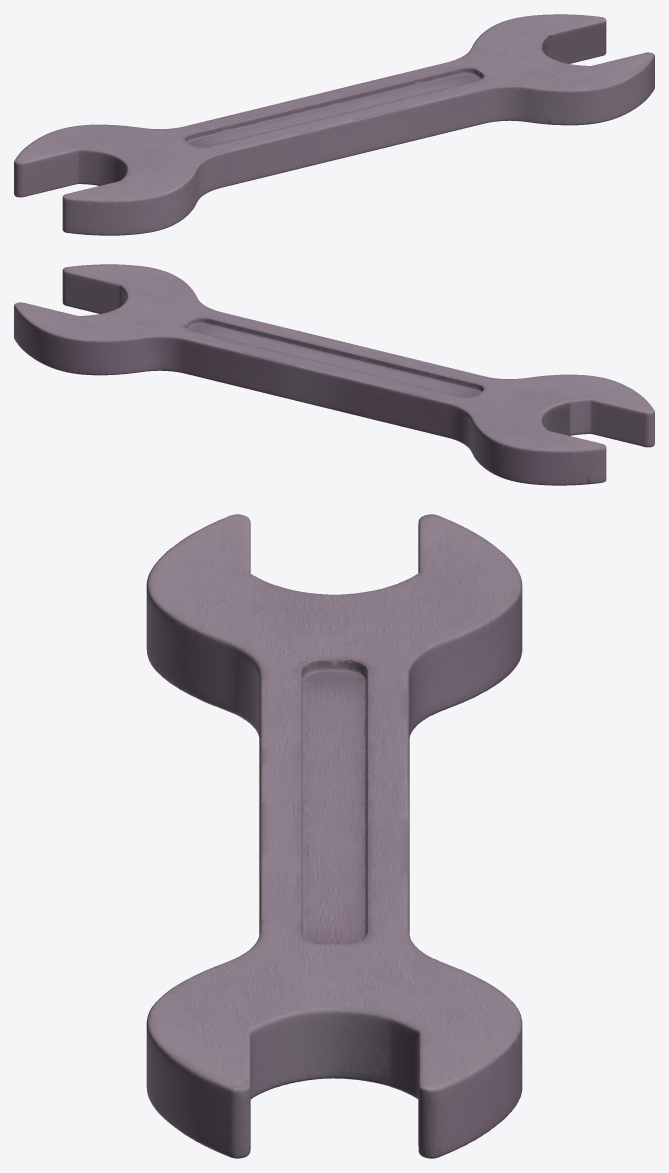
File: accessories_set_1_item_18.glb
The picture shows the model from 3 angles, top to bottom: view 1: azimuth 30°, elevation 25°; view 2: azimuth 150°, elevation 25°; view 3: azimuth 270°, elevation 25°; orthographic projection. The views are drawn at different scales.
Size of the model in its own units: 1.9 by 0.1086 by 0.5233.
1 material, 1 textured.
